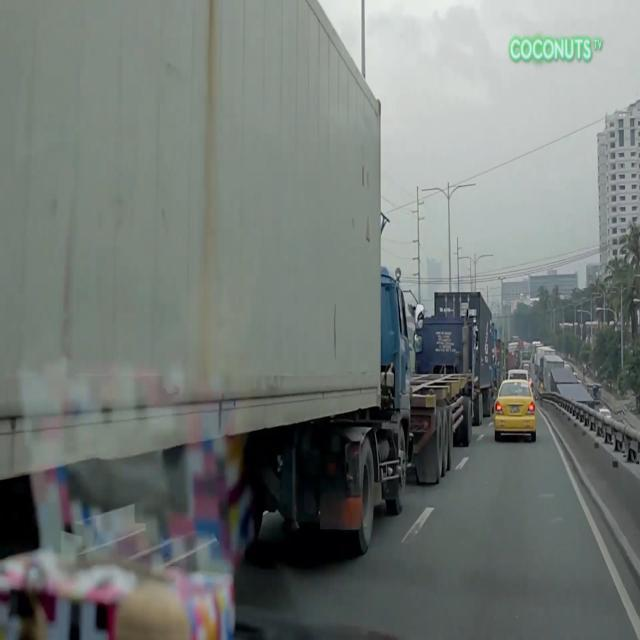truck: (0, 0, 424, 582), (411, 306, 478, 488), (434, 291, 496, 428), (540, 355, 564, 392), (534, 346, 556, 379)
